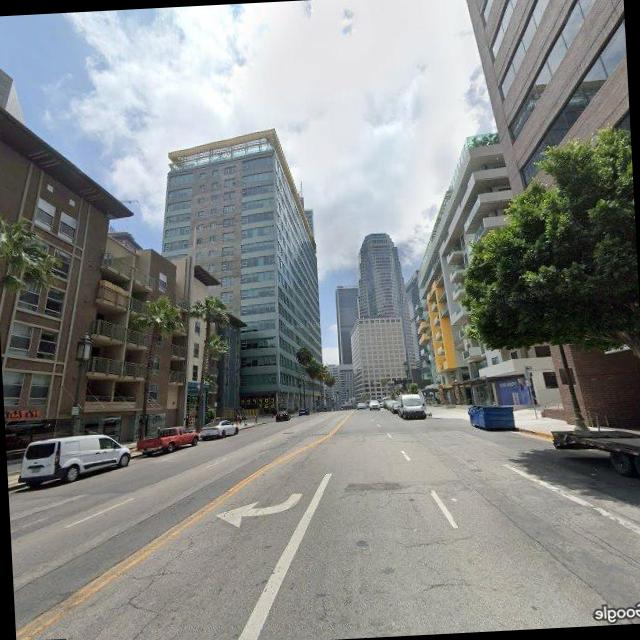pothole: (110, 528, 206, 612)
